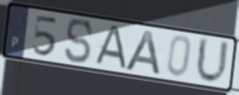0: (164, 34, 194, 80)
5: (31, 14, 60, 58)
A: (123, 28, 163, 77), (91, 25, 129, 72)
S: (63, 17, 95, 65)
U: (194, 35, 231, 87)
